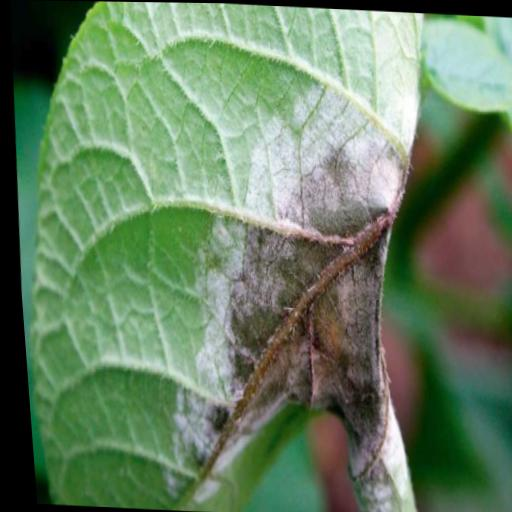Early Blight: (1, 0, 453, 512)
